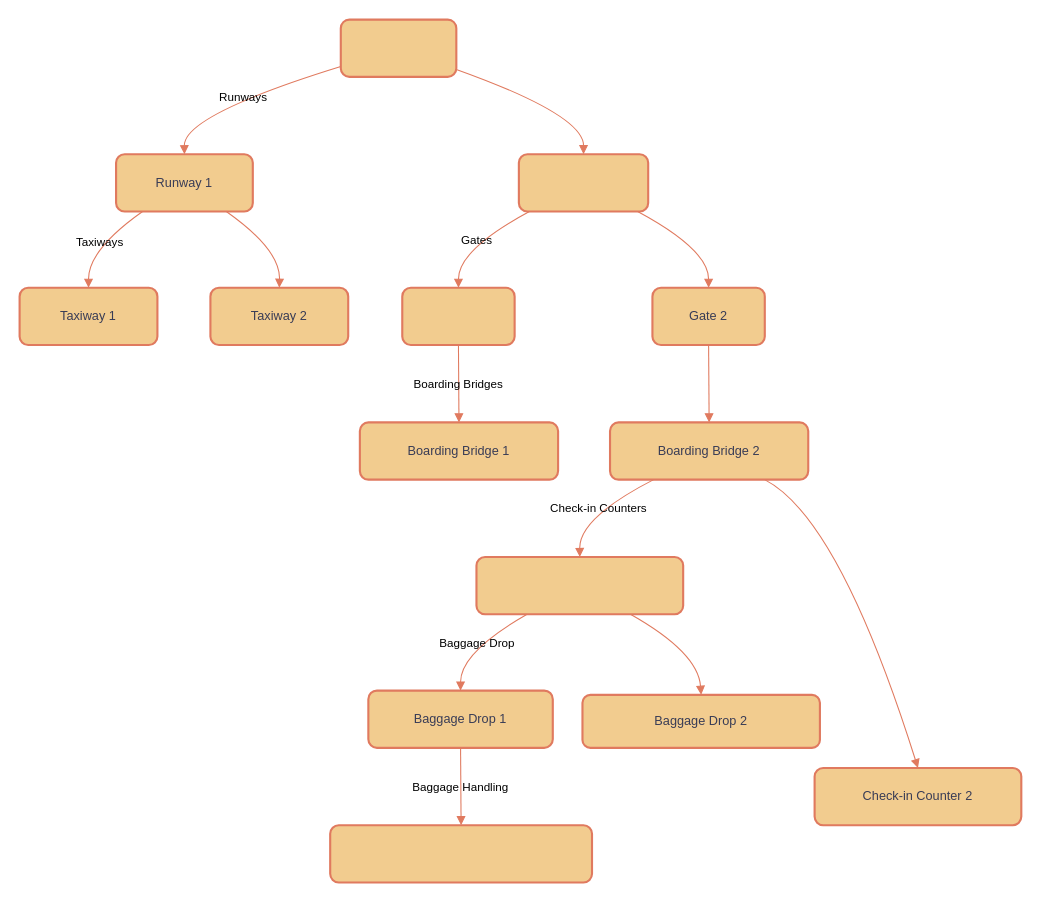
Image size: 1040x901. Some labels were removed from this diagram. The box of each missing label's shape, as (x1, y1, x2, y2) in pixels:
Airport: (339, 18, 457, 77)
Baggage Handling System: (329, 824, 593, 883)
Check-in Counter 1: (475, 555, 684, 615)
Gate 1: (401, 286, 515, 346)
Terminal: (517, 153, 649, 212)
